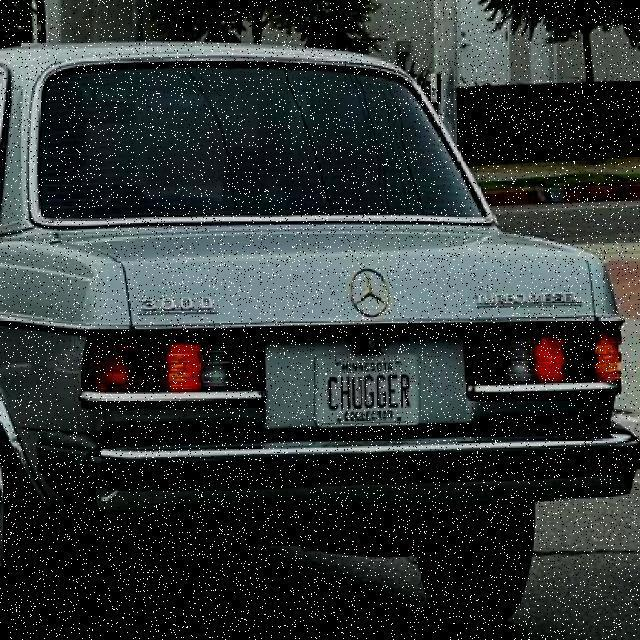LicensePlate: (313, 352, 418, 427)
